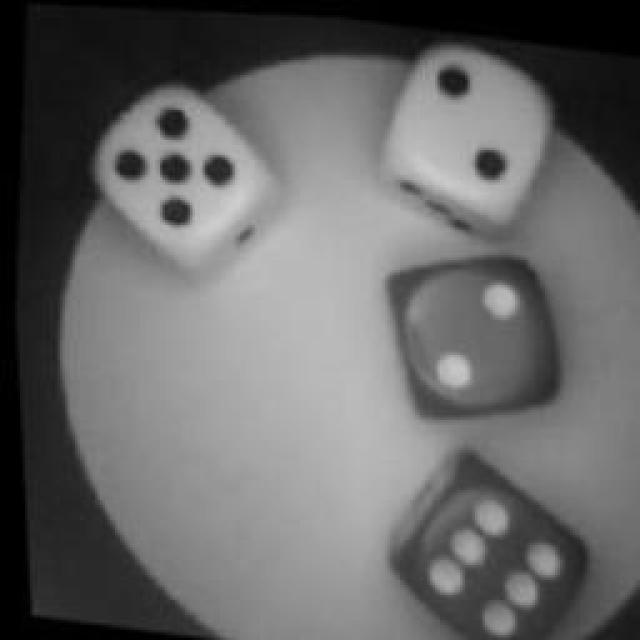dice_2: (374, 26, 564, 229), (384, 241, 568, 421)
dice_5: (84, 86, 278, 266)
dice_6: (385, 455, 590, 640)
